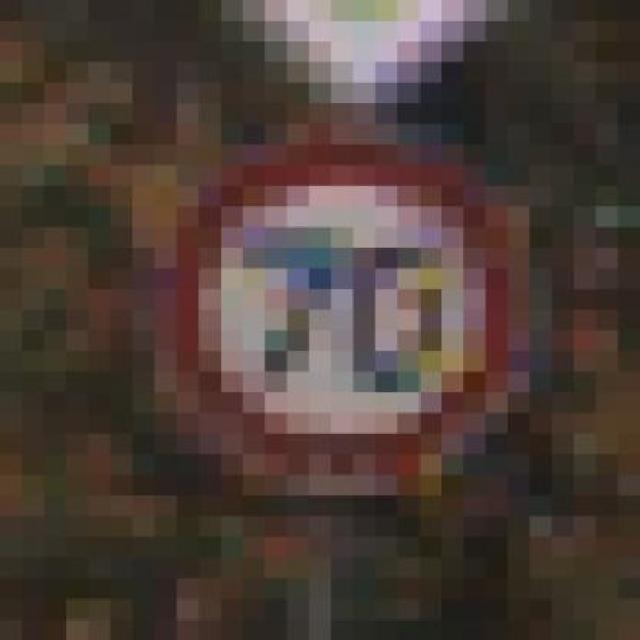forb_speed_over_70: (179, 142, 516, 484)
